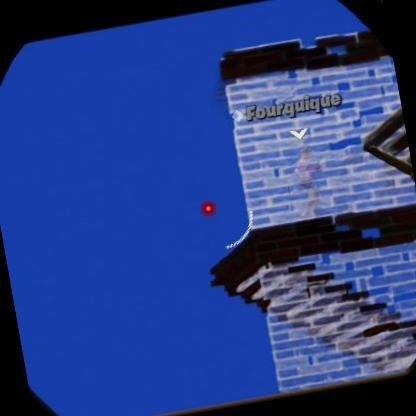person: (288, 148, 330, 222)
